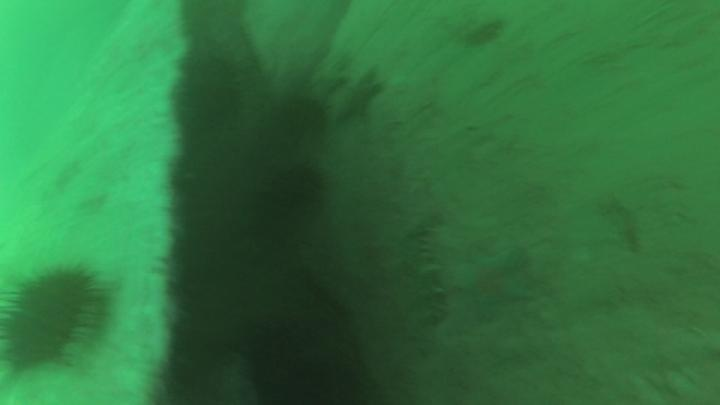echinus: (7, 272, 88, 364), (267, 363, 356, 405), (260, 100, 323, 146), (250, 320, 303, 365), (271, 169, 323, 212)
holothurian: (420, 228, 463, 320)
starfish: (457, 252, 531, 312), (339, 69, 385, 121)
